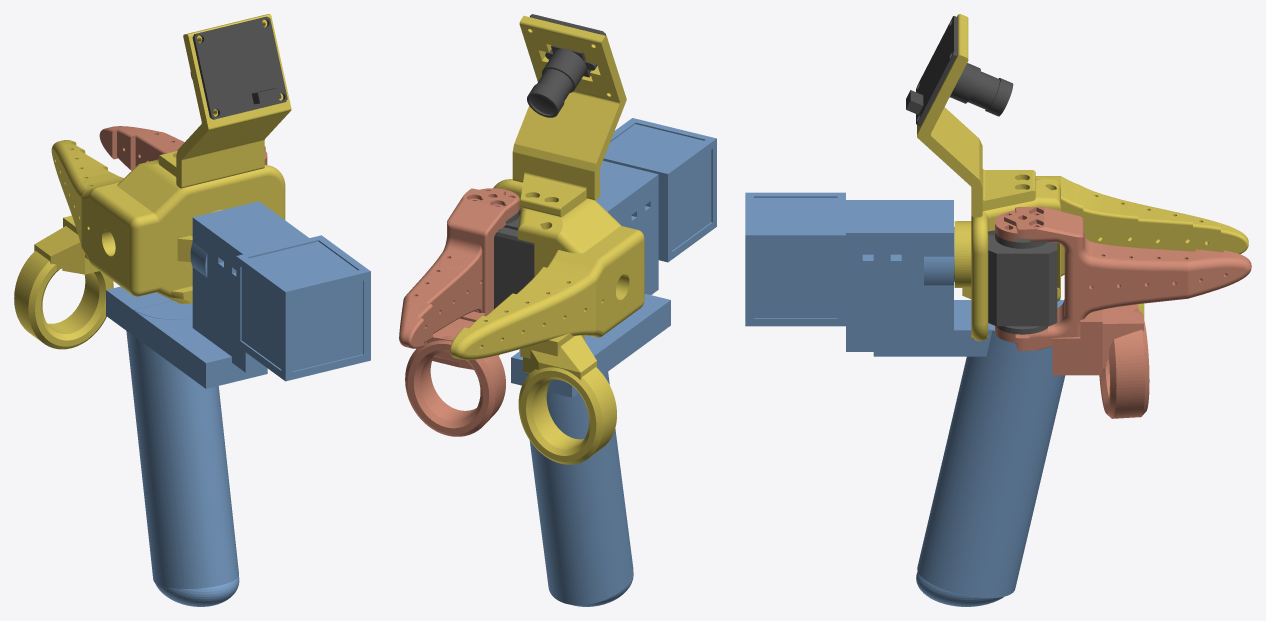
Rendered from soumi_assembly_preview.glb.
The picture shows the model from 3 angles, left to right: view 1: azimuth 30°, elevation 25°; view 2: azimuth 150°, elevation 25°; view 3: azimuth 270°, elevation 25°; orthographic projection. The views are drawn at different scales.
Visible parts, largest first — view 1: handle, follower_with_loop, cam_mount, camera, moving_jaw_with_loop; view 2: handle, follower_with_loop, moving_jaw_with_loop, cam_mount, camera, servo; view 3: handle, moving_jaw_with_loop, follower_with_loop, cam_mount, servo, camera.
Boxes of the visible parts, <box> form: handle: <box>106,201,370,606</box>; follower_with_loop: <box>14,140,285,349</box>; cam_mount: <box>158,14,291,188</box>; camera: <box>190,16,287,119</box>; moving_jaw_with_loop: <box>99,126,267,170</box>; handle: <box>511,118,716,606</box>; follower_with_loop: <box>450,179,644,464</box>; moving_jaw_with_loop: <box>399,188,519,436</box>; cam_mount: <box>512,16,626,217</box>; camera: <box>527,14,606,117</box>; servo: <box>494,208,534,308</box>; handle: <box>745,192,1065,606</box>; moving_jaw_with_loop: <box>995,207,1251,418</box>; follower_with_loop: <box>954,176,1248,341</box>; cam_mount: <box>917,14,1035,217</box>; servo: <box>988,230,1057,334</box>; camera: <box>906,16,1013,125</box>.
Size of the model in its own units: 84.61 by 230 by 181.
